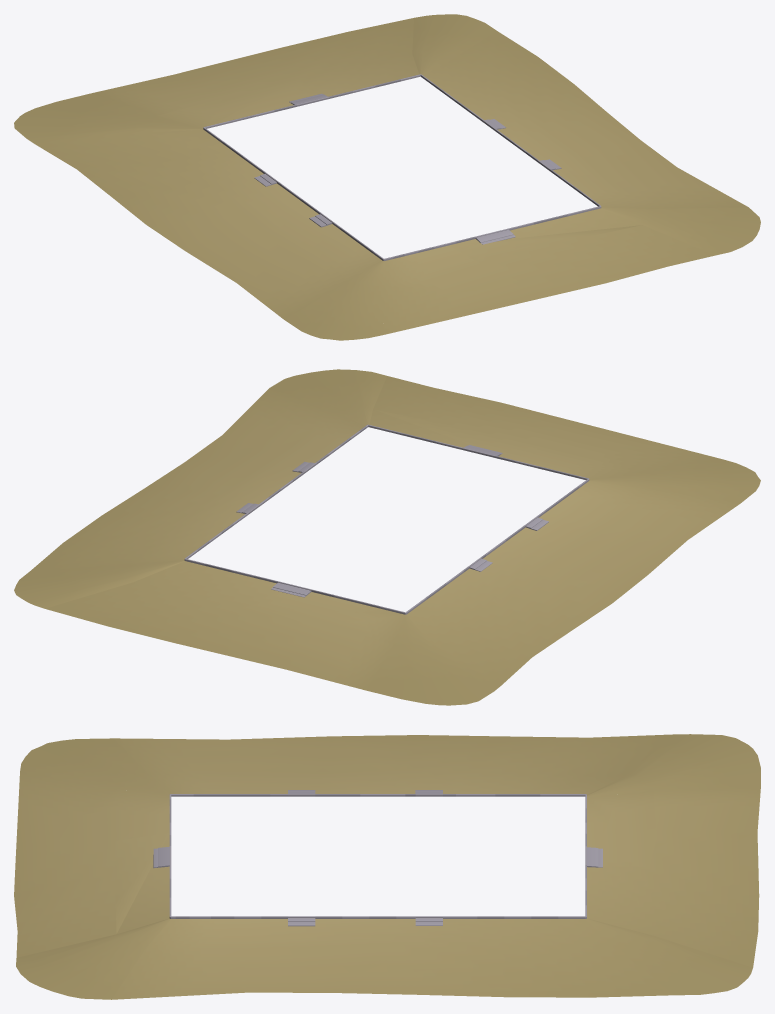
Rendered from MiniMapSeaSurface.fbx.
3 views of the same model, one above another, from view 1: azimuth 30°, elevation 25°; view 2: azimuth 150°, elevation 25°; view 3: azimuth 270°, elevation 25° (orthographic). The views are drawn at different scales.
Parts seen in each view (by area): view 1: Side2, Back, Side1, Beach-Mini; view 2: Side2, Beach-Mini, Back, Side1; view 3: Side1, Side2, Back, Beach-Mini.
Boxes of the visible parts, x1,y1,x2,y2 form: Side2: (14,93,384,319); Back: (284,206,760,340); Side1: (420,31,748,208); Beach-Mini: (92,14,496,129); Side2: (366,478,739,705); Beach-Mini: (14,558,406,690); Back: (270,369,760,503); Side1: (30,388,368,571); Side1: (111,916,673,999); Side2: (114,734,760,796); Back: (14,738,171,999); Beach-Mini: (585,787,760,995).
Bounding box in the file's own units: 34922 × 41492 × 871.
Materials: 1 (1 with a texture image).
